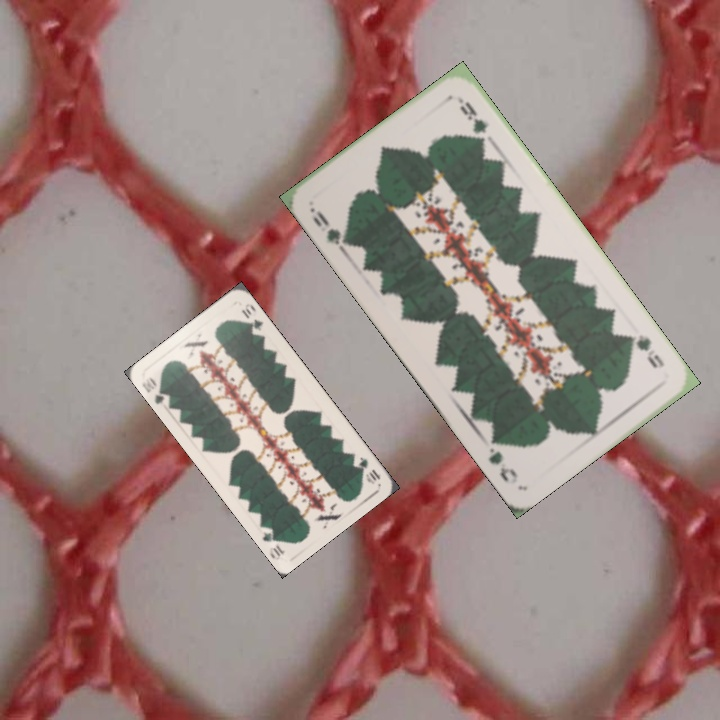G10: (138, 374, 171, 407), (353, 452, 383, 487)
G9: (305, 203, 355, 255), (623, 330, 667, 371)
